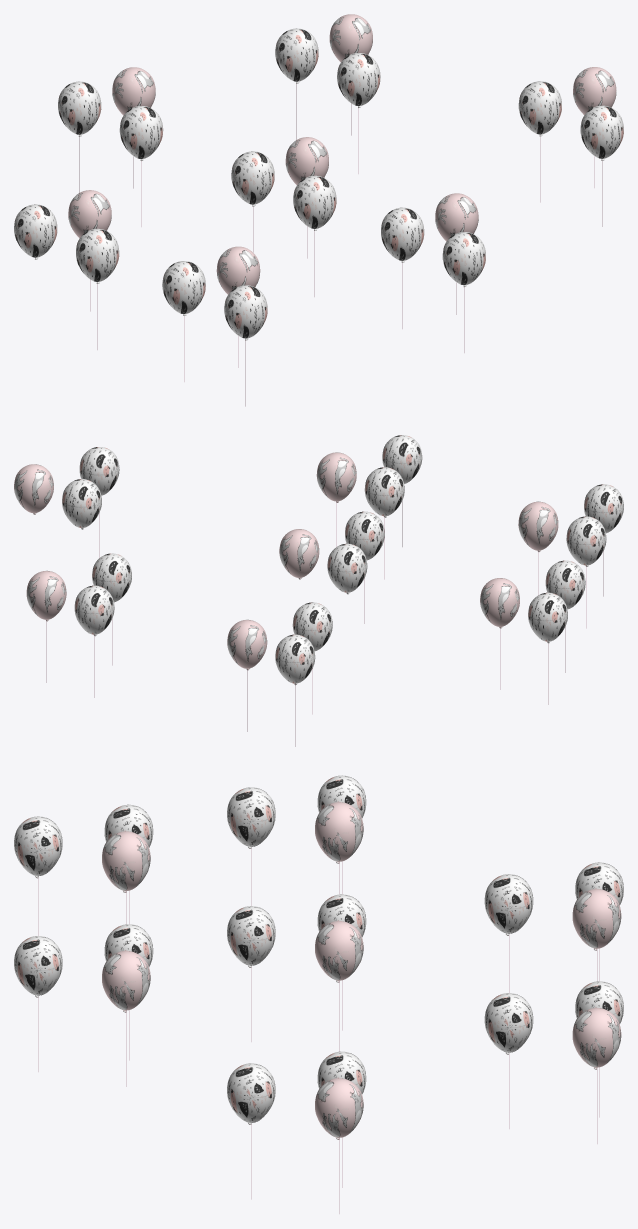
File: baloane.obj
3 views of the same model, one above another, from view 1: azimuth 30°, elevation 25°; view 2: azimuth 150°, elevation 25°; view 3: azimuth 270°, elevation 25° (orthographic). The views are drawn at different scales.
Visible parts, largest first — view 1: Balloon_03.005, Balloon_03.001, Balloon_01.002, Balloon_01.006, Balloon_03.004, Balloon_01.001, Balloon_03.003, Balloon_03.006, Balloon_03.007, Balloon_01.003, Balloon_01.004, Balloon_01.005 (+9 smaller); view 2: Balloon_02.004, Balloon_03.001, Balloon_03.006, Balloon_03.005, Balloon_03.004, Balloon_02.007, Balloon_03.007, Balloon_03.003, Balloon_02.006, Balloon_02.001, Balloon_02.002, Balloon_02.003 (+9 smaller); view 3: Balloon_02.002, Balloon_01.004, Balloon_01.005, Balloon_01.006, Balloon_02.004, Balloon_02.001, Balloon_01.001, Balloon_01.002, Balloon_02.005, Balloon_02.003, Balloon_01.003, Balloon_02.006 (+9 smaller).
Part boxes in pixels (bbox=[...]): Balloon_03.005: bbox=[275, 28, 318, 83]; Balloon_03.001: bbox=[231, 151, 274, 206]; Balloon_01.002: bbox=[580, 105, 623, 160]; Balloon_01.006: bbox=[224, 285, 267, 340]; Balloon_03.004: bbox=[58, 81, 101, 136]; Balloon_01.001: bbox=[293, 175, 336, 230]; Balloon_03.003: bbox=[14, 204, 57, 259]; Balloon_03.006: bbox=[162, 261, 205, 315]; Balloon_03.007: bbox=[381, 207, 424, 262]; Balloon_01.003: bbox=[76, 228, 119, 283]; Balloon_01.004: bbox=[119, 106, 163, 160]; Balloon_01.005: bbox=[337, 53, 380, 107]; Balloon_02.004: bbox=[227, 619, 267, 670]; Balloon_03.001: bbox=[327, 543, 367, 594]; Balloon_03.006: bbox=[566, 516, 606, 566]; Balloon_03.005: bbox=[74, 585, 114, 636]; Balloon_03.004: bbox=[275, 634, 315, 685]; Balloon_02.007: bbox=[316, 452, 356, 502]; Balloon_03.007: bbox=[364, 467, 404, 517]; Balloon_03.003: bbox=[528, 592, 567, 643]; Balloon_02.006: bbox=[518, 501, 558, 551]; Balloon_02.001: bbox=[279, 529, 319, 579]; Balloon_02.002: bbox=[14, 464, 53, 514]; Balloon_02.003: bbox=[480, 578, 519, 628]; Balloon_02.002: bbox=[315, 1078, 363, 1139]; Balloon_01.004: bbox=[484, 874, 533, 935]; Balloon_01.005: bbox=[484, 993, 533, 1054]; Balloon_01.006: bbox=[14, 816, 62, 878]; Balloon_02.004: bbox=[572, 889, 621, 950]; Balloon_02.001: bbox=[315, 921, 363, 982]; Balloon_01.001: bbox=[227, 906, 275, 967]; Balloon_01.002: bbox=[227, 1063, 275, 1124]; Balloon_02.005: bbox=[572, 1008, 621, 1069]; Balloon_02.003: bbox=[315, 802, 363, 863]; Balloon_01.003: bbox=[227, 787, 275, 848]; Balloon_02.006: bbox=[102, 831, 150, 892].
Size of the model in its own units: 57.11 by 11.16 by 45.19.
Materials: 28 (28 with a texture image).
